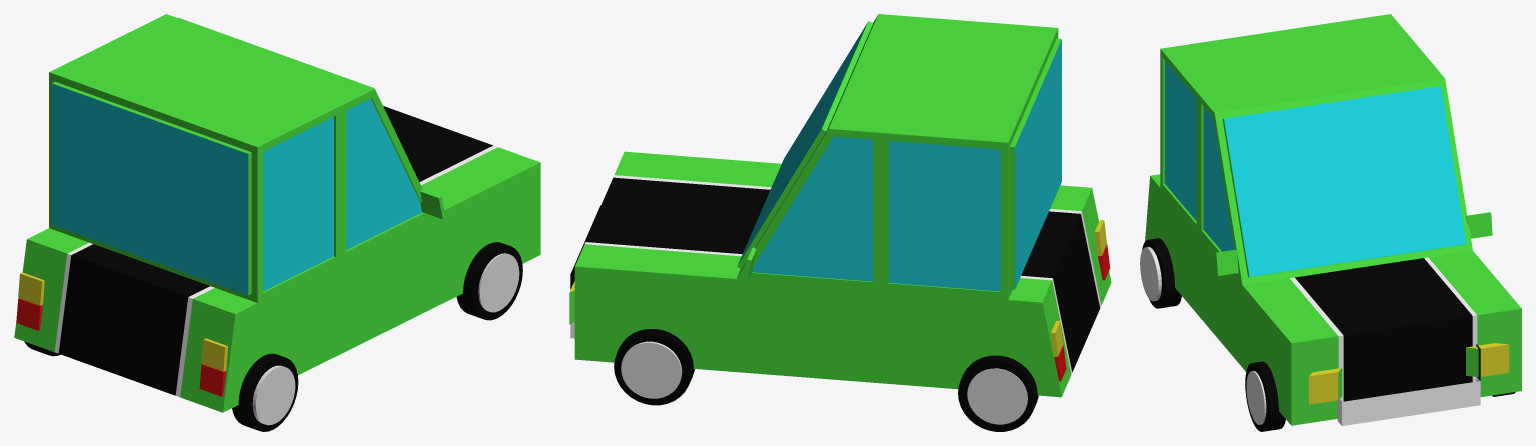
The model's file is props_mobil.glb.
3 views of the same model, side by side, from view 1: azimuth 30°, elevation 25°; view 2: azimuth 150°, elevation 25°; view 3: azimuth 270°, elevation 25° (orthographic). The views are drawn at different scales.
Parts seen in each view (by area): view 1: Cylinder.015; view 2: Cylinder.015; view 3: Cylinder.015.
Part boxes in pixels (x1,y1,x2,y2): Cylinder.015: (14, 14, 540, 431); Cylinder.015: (569, 14, 1111, 431); Cylinder.015: (1140, 14, 1521, 431).
Bounding box in the file's own units: 3.46 × 1.94 × 2.66.
